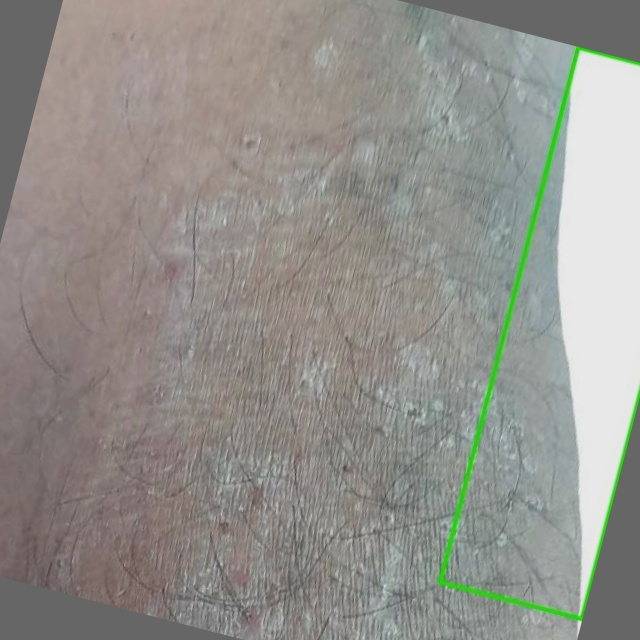Contact Dermatitis: (439, 47, 639, 620)
